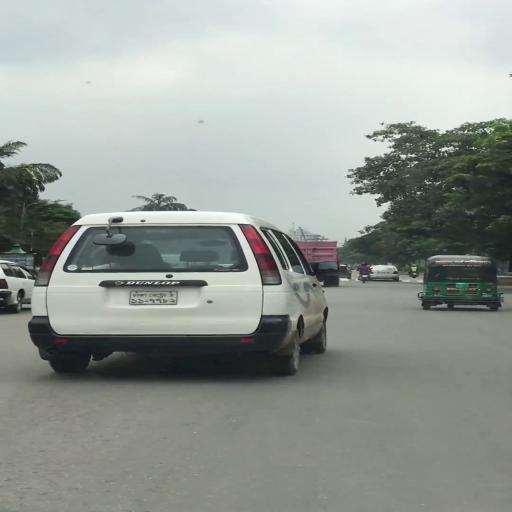car: (1, 259, 34, 314), (372, 266, 401, 282)
minivan: (30, 211, 332, 383)
motorbike: (356, 263, 373, 285), (408, 264, 420, 280)
suv: (339, 265, 352, 280)
three wheelers (CNG): (418, 254, 507, 314)
truck: (294, 237, 336, 285)
